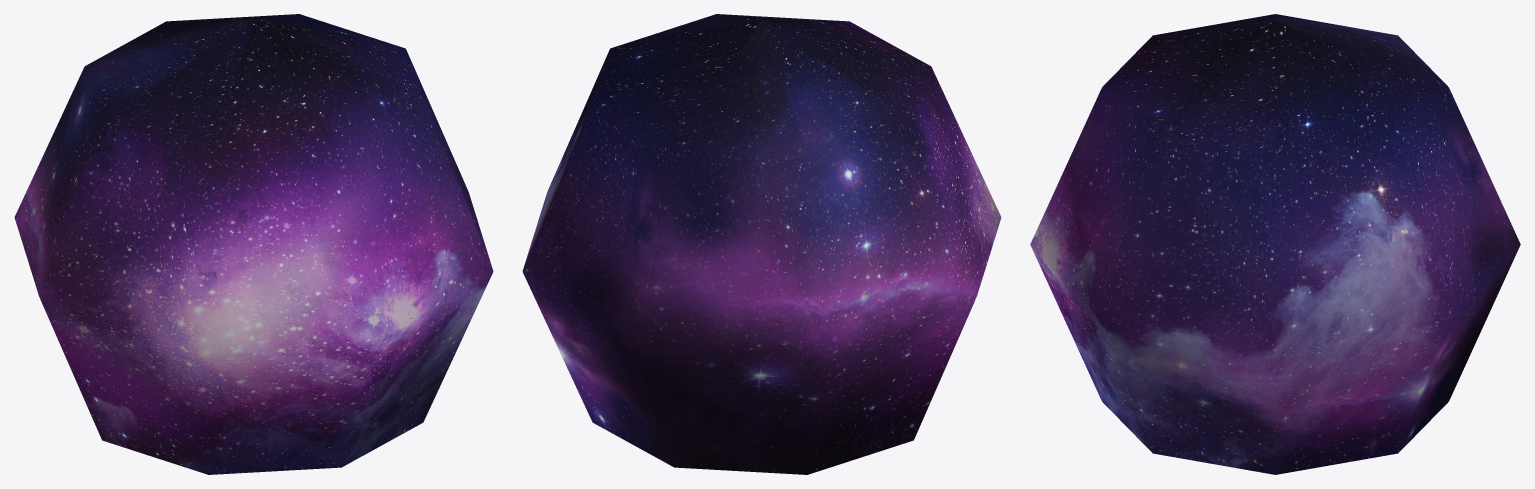
The model's file is Skybox.DAE.
The picture shows the model from 3 angles, left to right: view 1: azimuth 30°, elevation 25°; view 2: azimuth 150°, elevation 25°; view 3: azimuth 270°, elevation 25°; orthographic projection.
Visible parts, largest first — view 1: Sphere001; view 2: Sphere001; view 3: Sphere001.
Boxes of the visible parts, bbox=[...] form: Sphere001: bbox=[14, 14, 493, 474]; Sphere001: bbox=[522, 14, 1001, 474]; Sphere001: bbox=[1030, 14, 1520, 474].
Size of the model in its own units: 260 by 260 by 260.
1 material, 1 textured.
